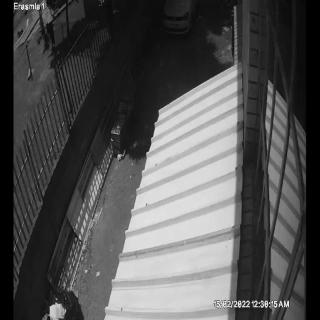car: (161, 0, 199, 34)
